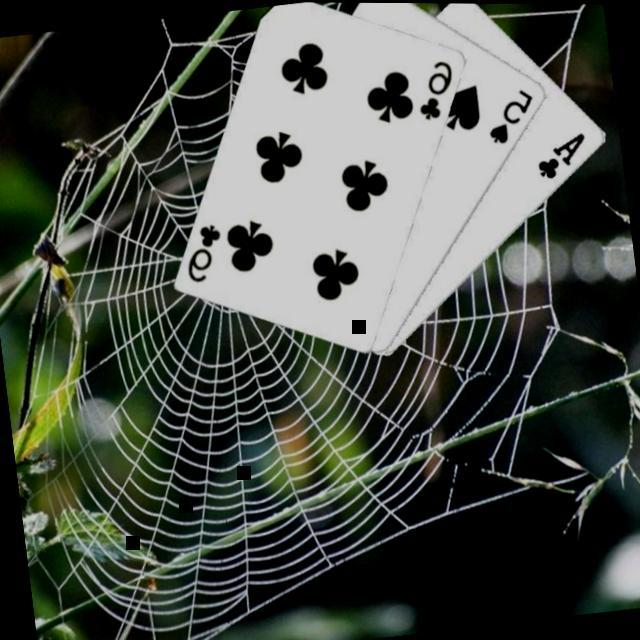5S: (483, 82, 543, 146)
6C: (412, 53, 462, 121), (181, 217, 231, 285)
AC: (533, 127, 594, 181)
